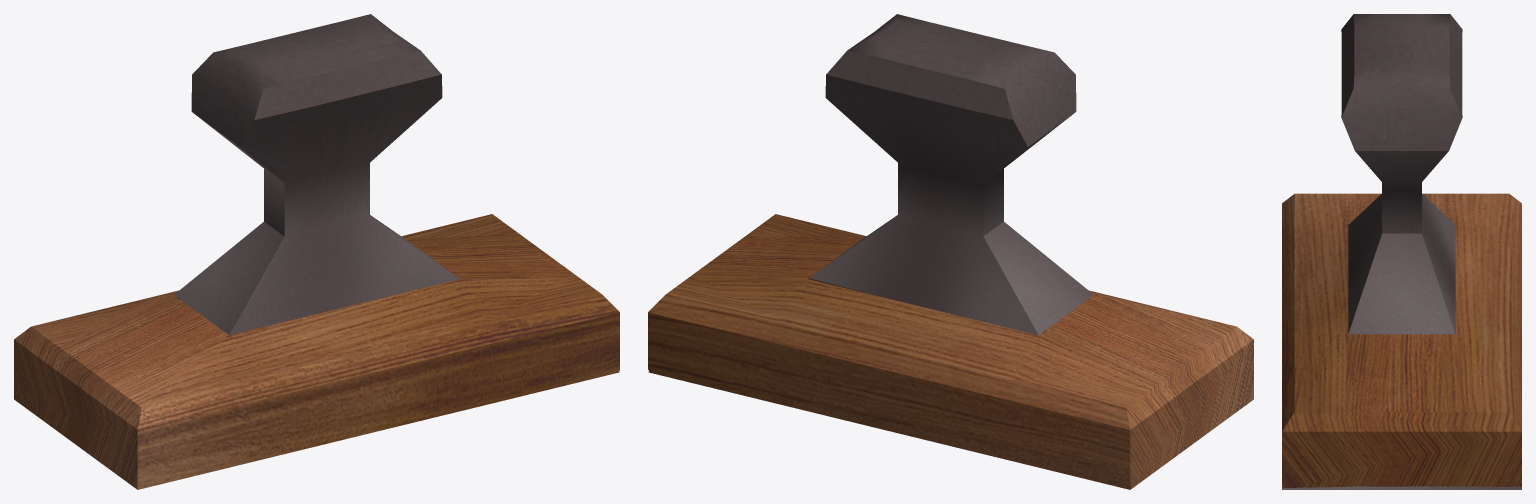
The model's file is Stamp.fbx.
3 views of the same model, side by side, from view 1: azimuth 30°, elevation 25°; view 2: azimuth 150°, elevation 25°; view 3: azimuth 270°, elevation 25° (orthographic). The views are drawn at different scales.
Parts seen in each view (by area): view 1: pCube1; view 2: pCube1; view 3: pCube1.
Boxes of the visible parts, <box> form: pCube1: <box>14,14,619,489</box>; pCube1: <box>648,14,1253,489</box>; pCube1: <box>1282,14,1521,489</box>.
Size of the model in its own units: 6.92 by 4.68 by 3.07.
1 material, 1 textured.
